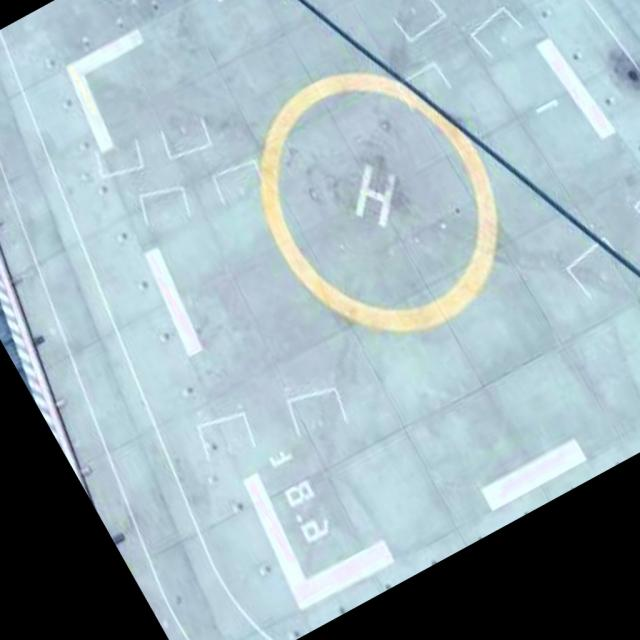helipad: (252, 66, 501, 339)
